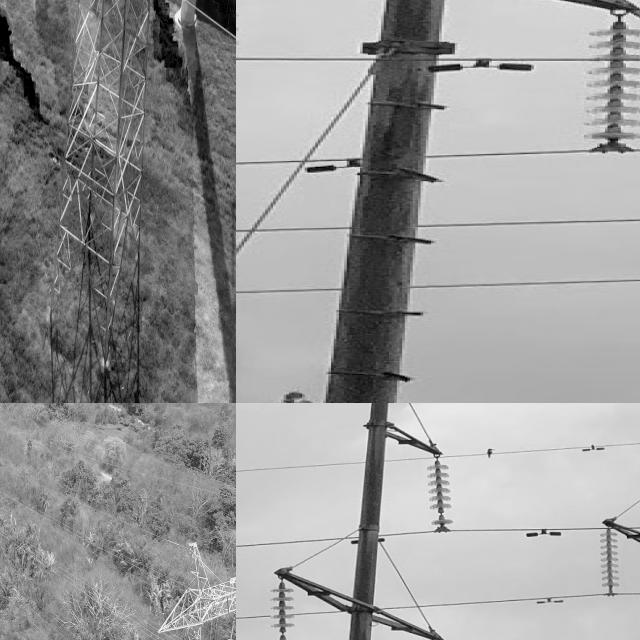杆塔: (236, 0, 640, 403), (36, 0, 161, 400)
正常绝缘子: (574, 3, 640, 152), (421, 451, 461, 540), (266, 572, 300, 640), (595, 520, 624, 598), (228, 609, 236, 640)
绝缘子破损: (436, 510, 446, 518), (278, 630, 287, 638)
